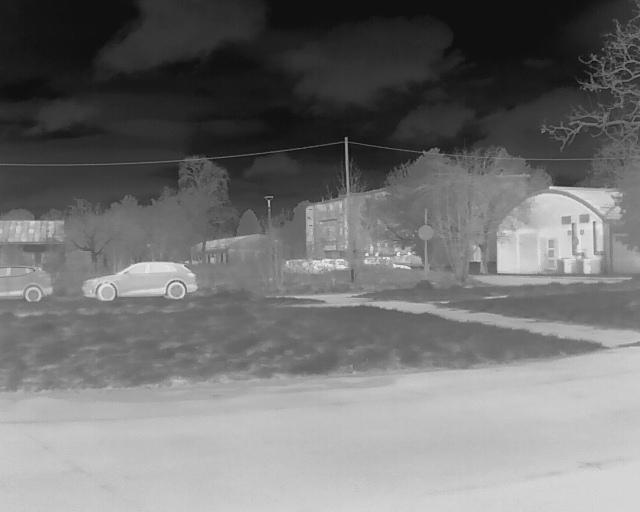drone: (358, 234, 419, 287)
